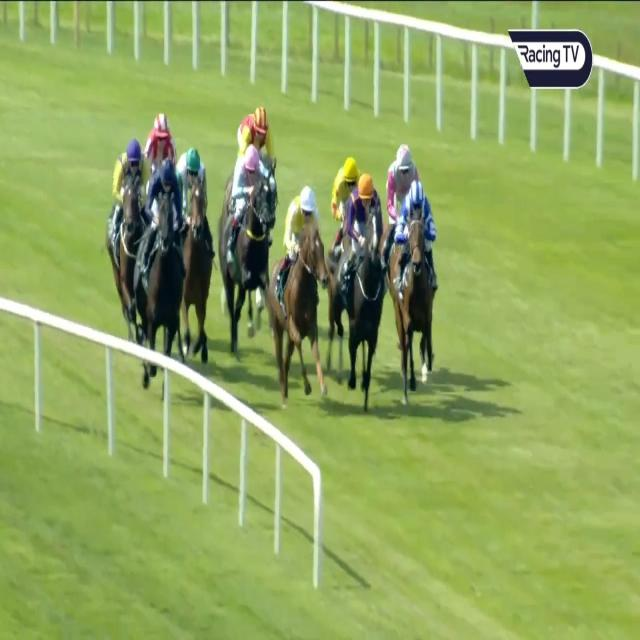horses-racing: (272, 184, 326, 404), (333, 172, 382, 394), (221, 143, 273, 336), (395, 180, 441, 394), (135, 158, 180, 374), (104, 134, 147, 356), (176, 147, 211, 343), (230, 105, 285, 168), (388, 136, 424, 230), (326, 155, 360, 252), (137, 111, 178, 171)
